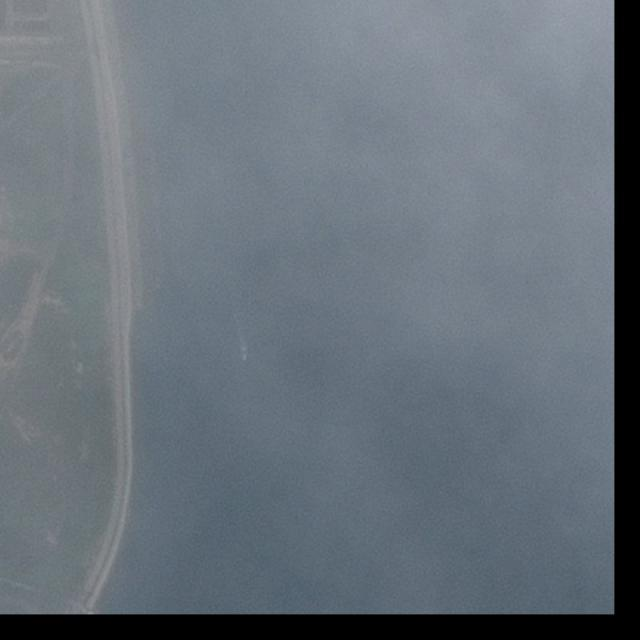ship: (241, 347, 249, 362)
